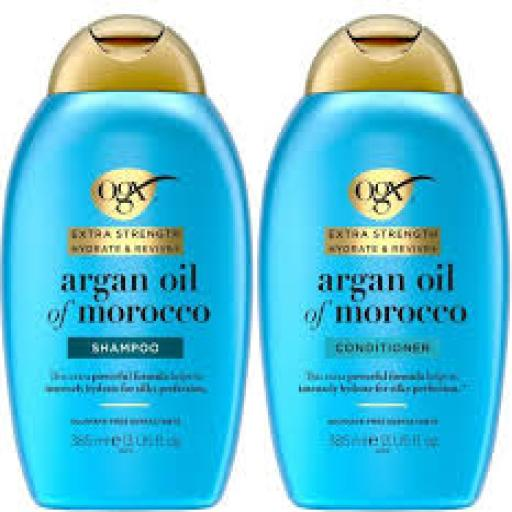blue-bottle: (259, 17, 508, 507), (4, 17, 248, 507)
